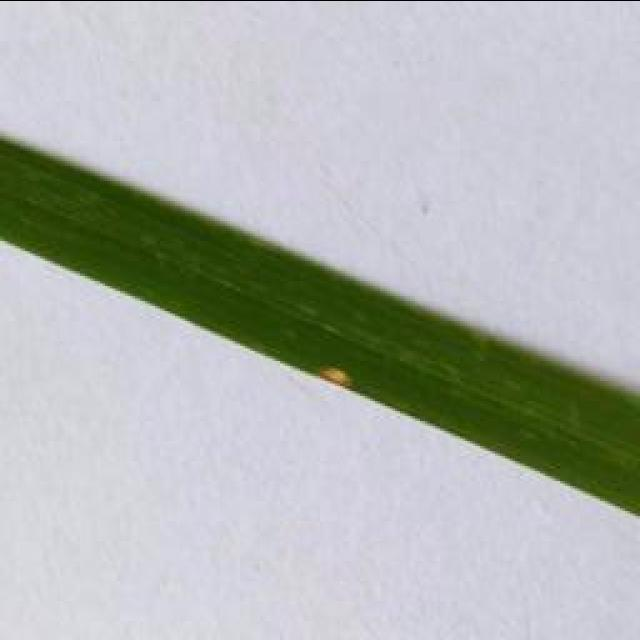Unhealthy: (317, 365, 351, 391)
